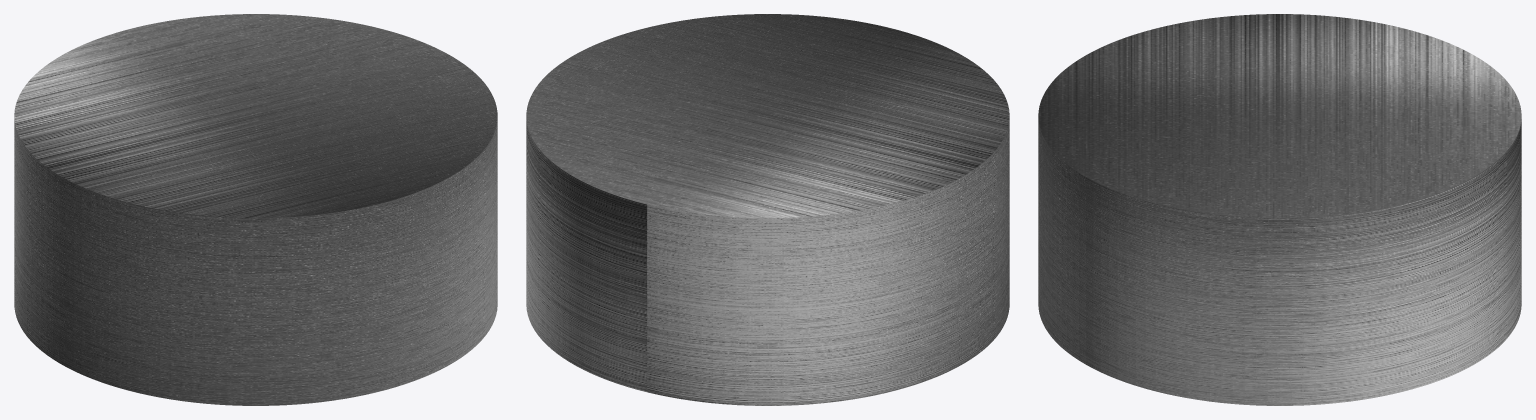
File: MetalBase.fbx
3 views of the same model, side by side, from view 1: azimuth 30°, elevation 25°; view 2: azimuth 150°, elevation 25°; view 3: azimuth 270°, elevation 25° (orthographic).
Visible parts, largest first — view 1: Base; view 2: Base; view 3: Base.
Boxes of the visible parts, x1,y1,x2,y2 form: Base: (14, 14, 497, 405); Base: (526, 14, 1009, 405); Base: (1038, 14, 1521, 405).
Size of the model in its own units: 1400 by 600 by 1400.
Materials: 1 (1 with a texture image).
